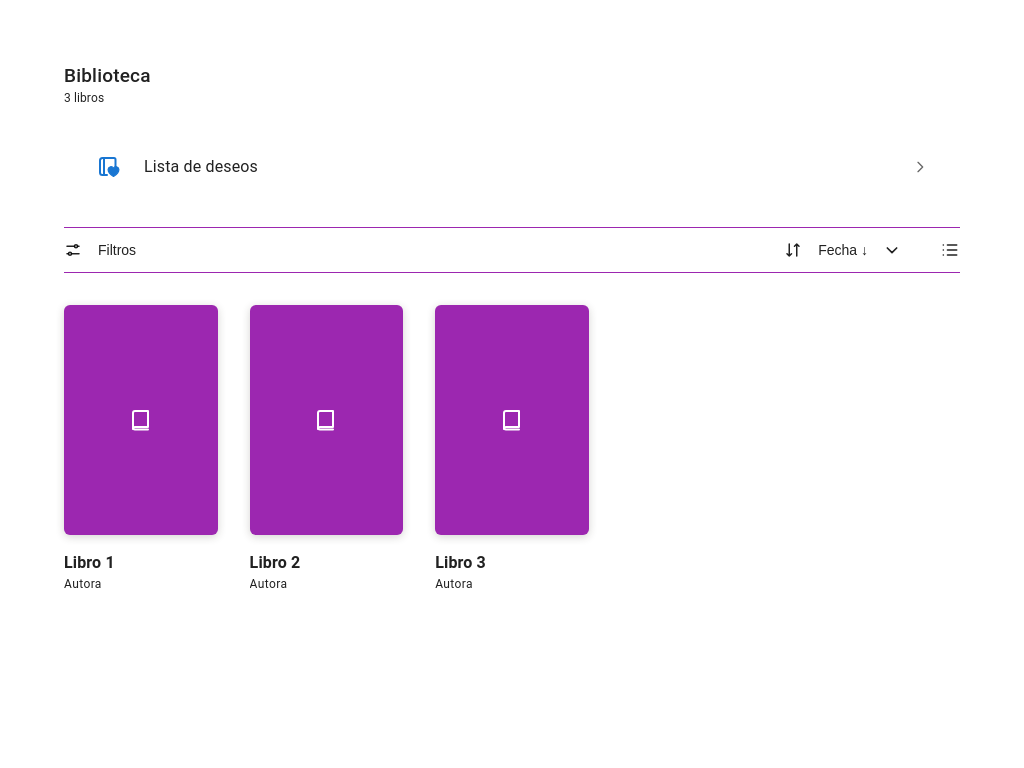
Test: Given the library page with order and filters › When the user picks the alphabetical order › Then the order goes to the URL and to the request
Click the button with aria-label "Ordenar por: Fecha: más recientes primero" at (842, 250), box [768,228,916,272]
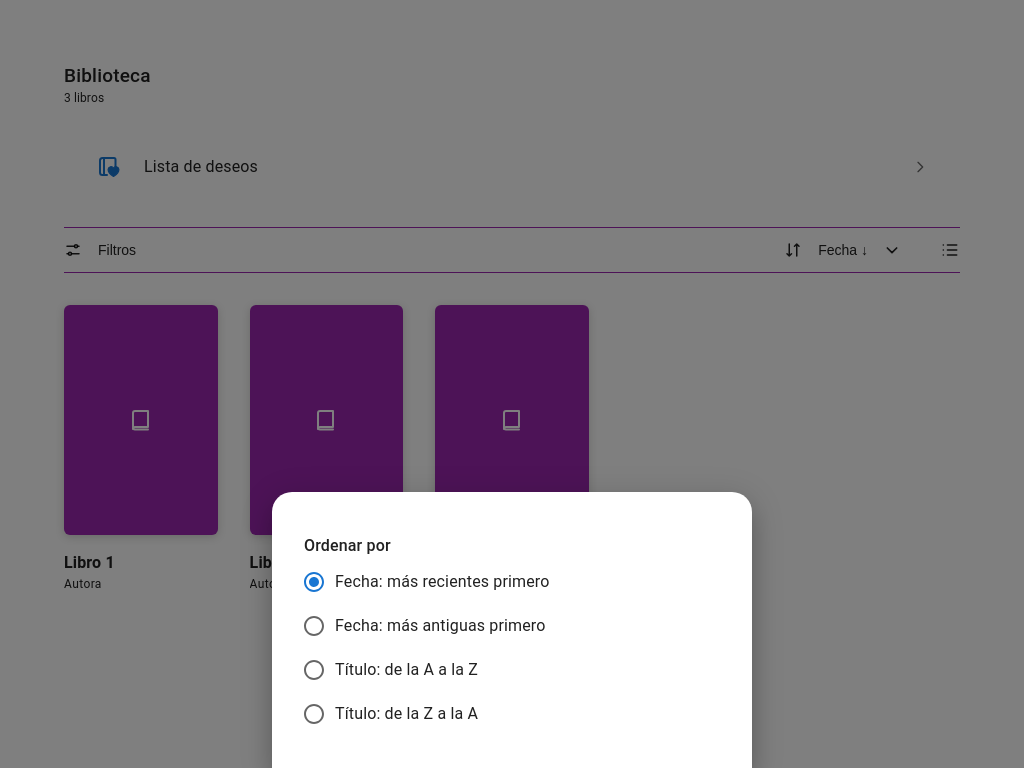
Click the radio button labelled "Título: de la A a la Z" at (390, 670), box [302,658,478,682]
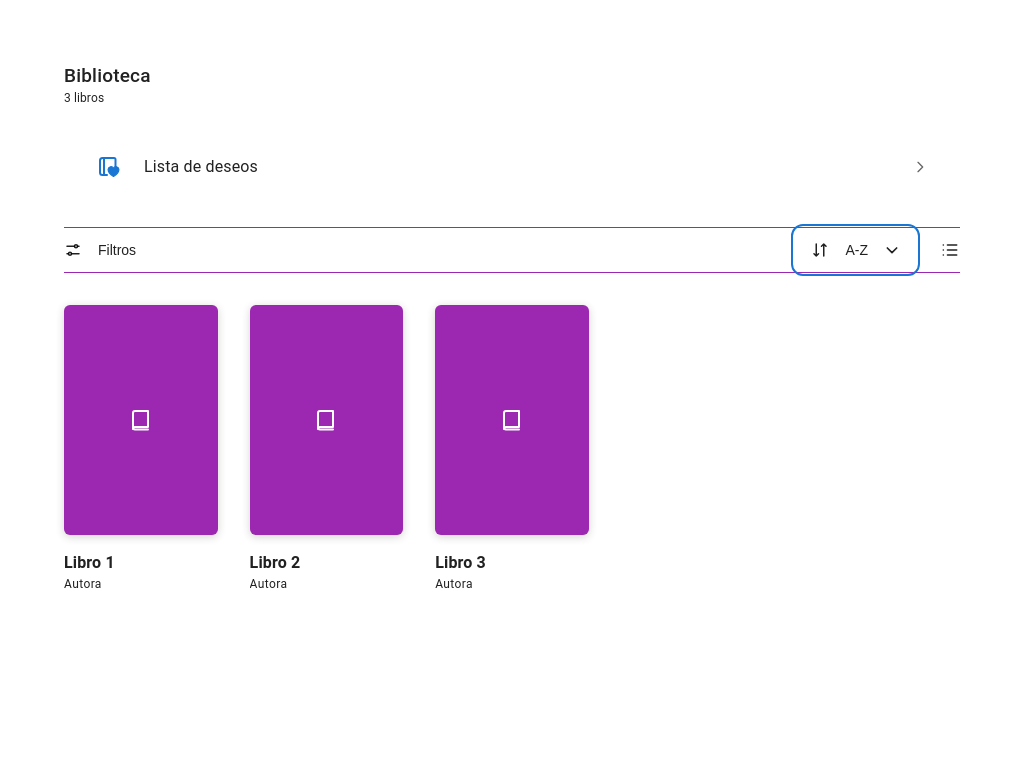
Expected: the button named "Ordenar por: Título: de la A a la Z" is shown, [795,228,916,272]
